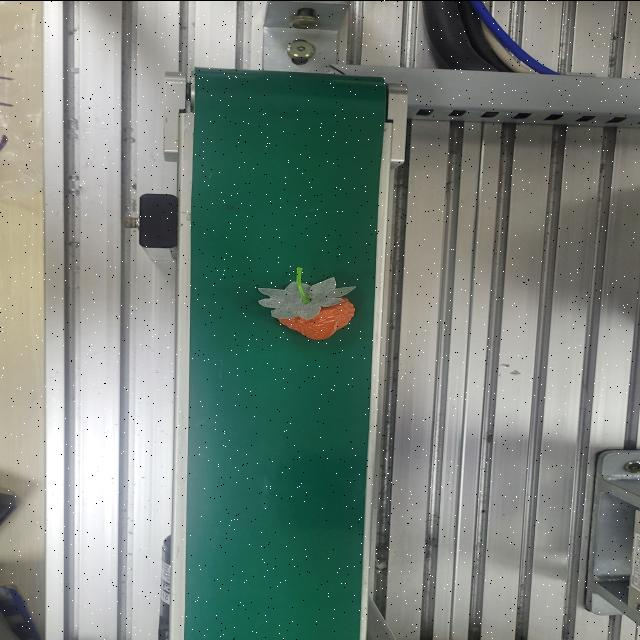Small Ripe Strawberry: (252, 264, 360, 340)
